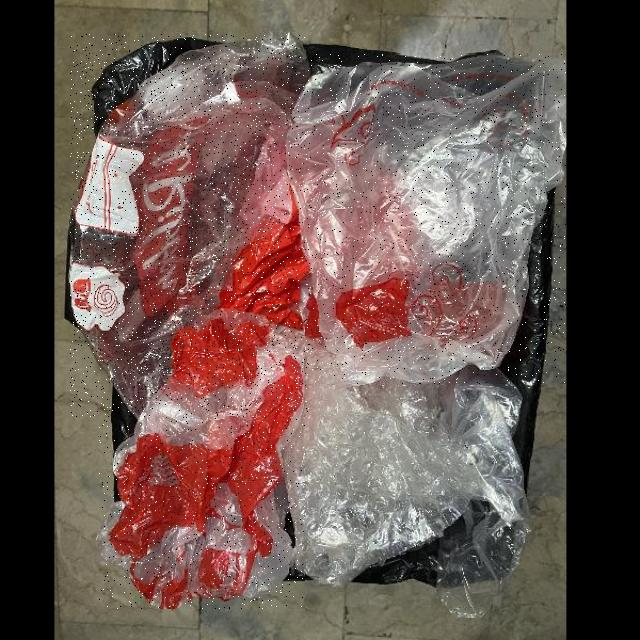plastic: (286, 54, 566, 384), (70, 34, 309, 416), (99, 309, 305, 609)
